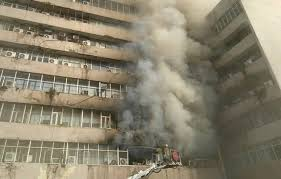smoke: (108, 1, 223, 160)
